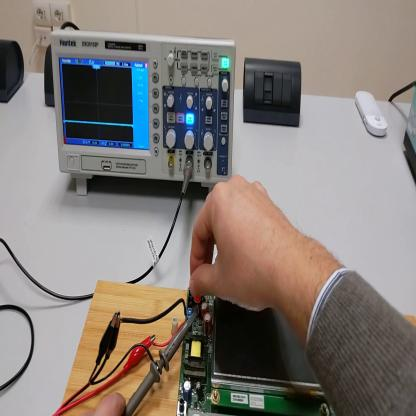hand: (189, 173, 292, 316), (86, 388, 126, 414)
low voltage board: (121, 289, 334, 416)
oscilloscope: (51, 31, 237, 204)
oscilloscope probe tip: (126, 305, 200, 415)
socket: (1, 40, 26, 106), (44, 42, 55, 107)
welder station: (405, 91, 416, 188)
working area: (62, 281, 189, 413)
